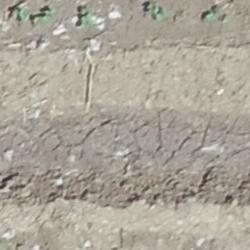cotton: (81, 13, 91, 24), (154, 10, 164, 20), (17, 8, 26, 18), (213, 5, 223, 14), (47, 8, 55, 17), (204, 15, 214, 21), (36, 16, 46, 21)
